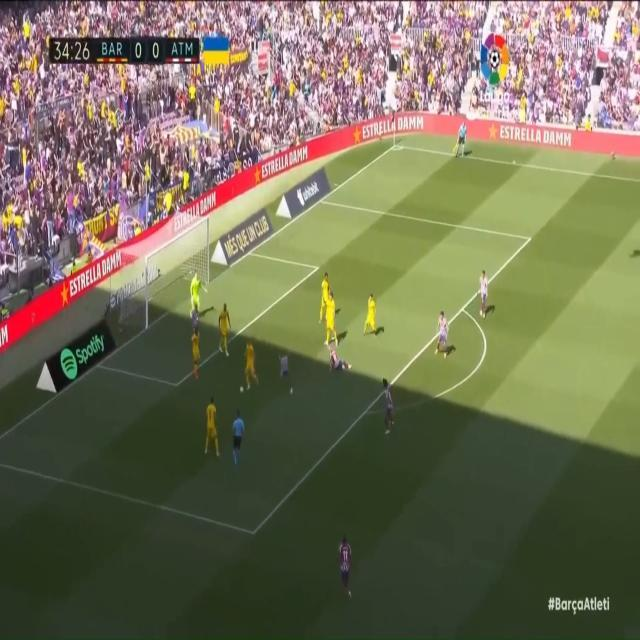ball: (238, 382, 245, 395)
goalkeeper: (189, 266, 201, 322)
player: (334, 533, 359, 602), (274, 344, 295, 401), (379, 374, 397, 435), (322, 345, 356, 377), (204, 395, 219, 463), (474, 263, 490, 325), (433, 304, 450, 359), (323, 291, 338, 345), (318, 270, 332, 323), (362, 290, 378, 336), (217, 293, 230, 349), (190, 300, 204, 352), (190, 327, 204, 377), (243, 339, 256, 390)
referee: (230, 408, 246, 469), (454, 113, 467, 161)
